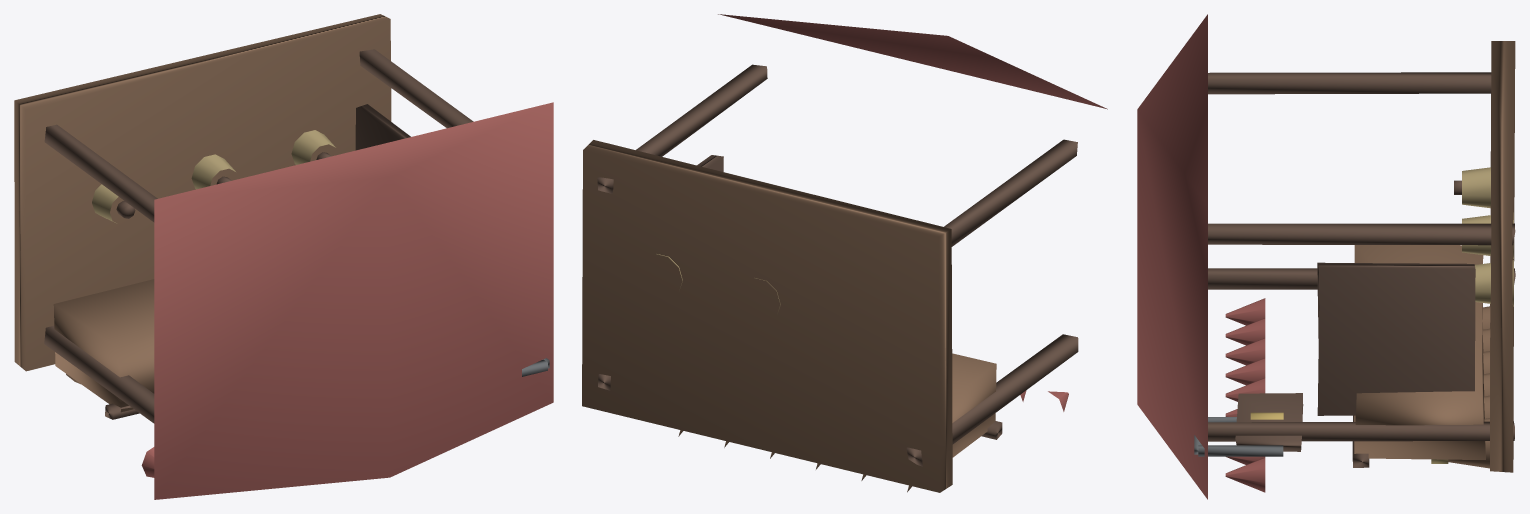
Rendered from food_stall_hd.glb.
3 views of the same model, side by side, from view 1: azimuth 30°, elevation 25°; view 2: azimuth 150°, elevation 25°; view 3: azimuth 270°, elevation 25° (orthographic).
Size of the model in its own units: 4.8 by 3.56 by 4.02.
